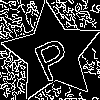P: (27, 28, 76, 83)
